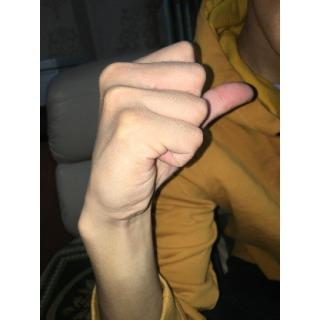WAW: (75, 39, 262, 232)
